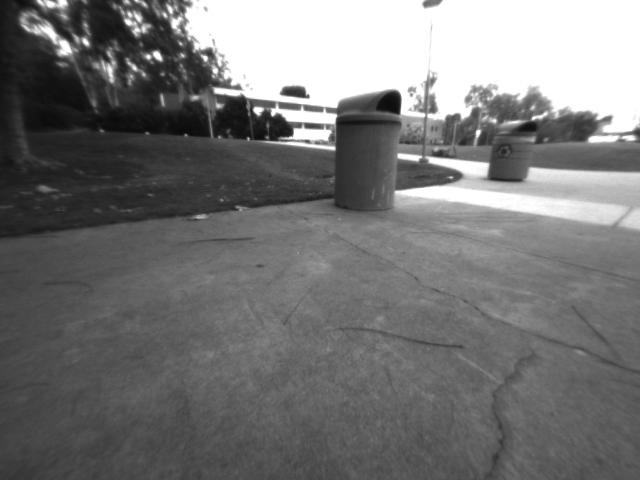trashcan: (333, 89, 399, 214)
